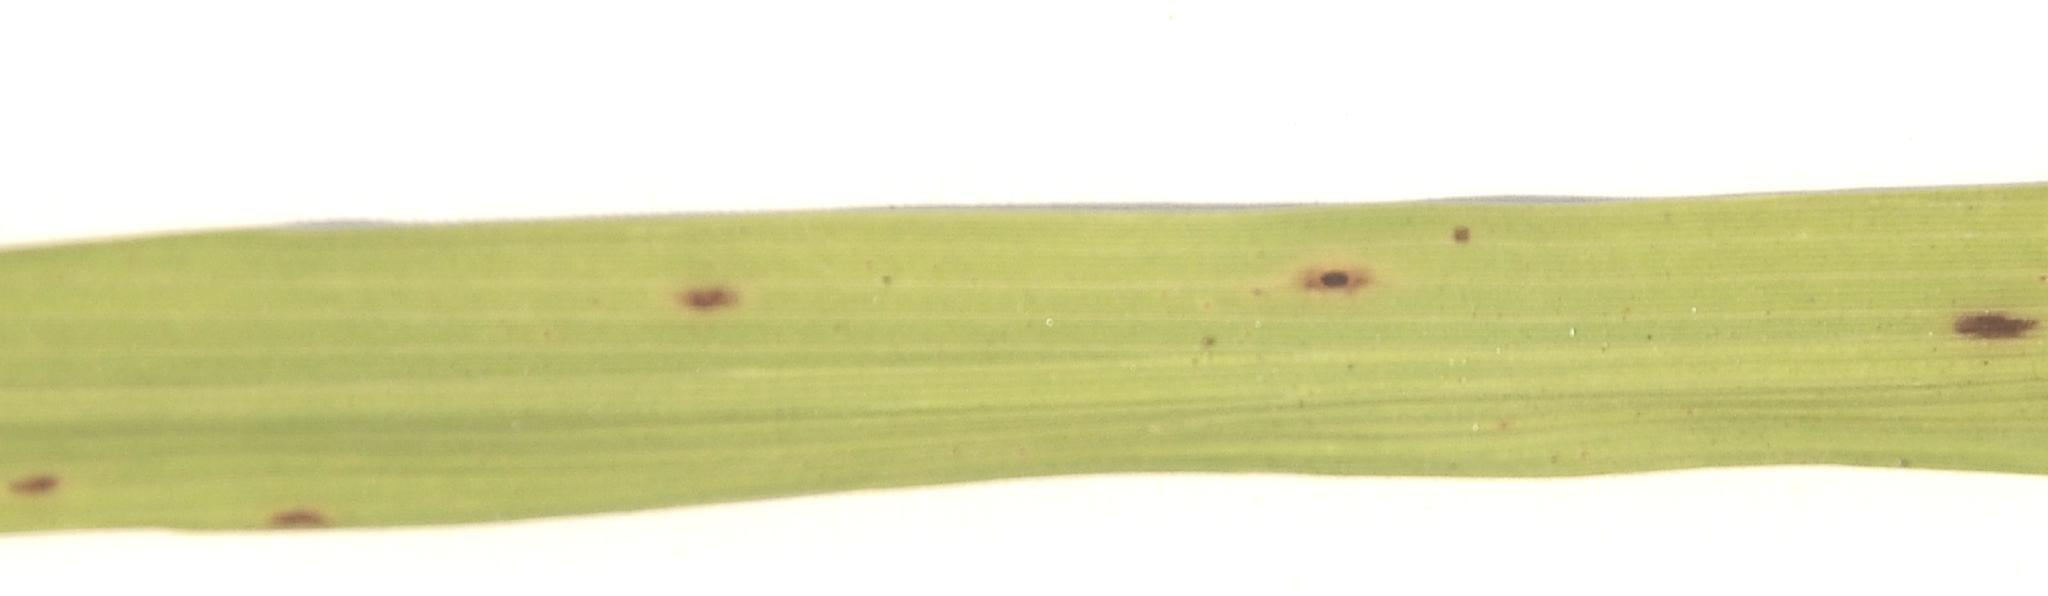0 BrownSpot: (639, 262, 774, 321), (1259, 257, 1411, 304), (1936, 294, 2048, 355), (225, 489, 350, 535), (7, 465, 80, 514), (1446, 216, 1484, 262)
